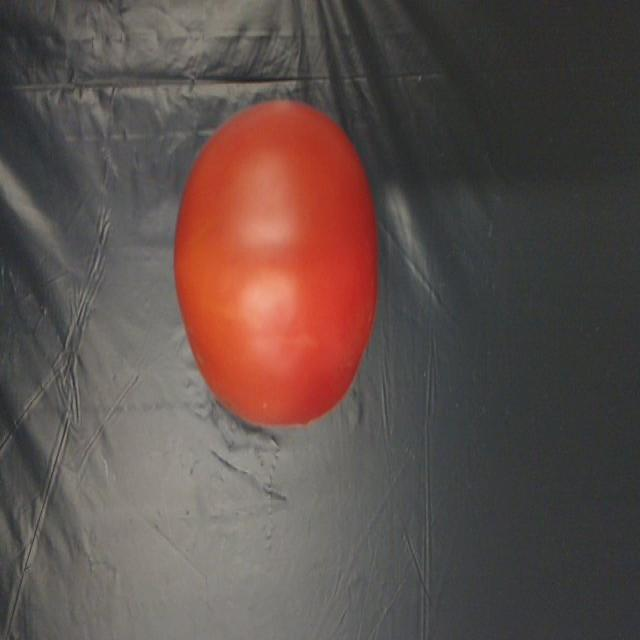kirmizi: (173, 59, 380, 436)
